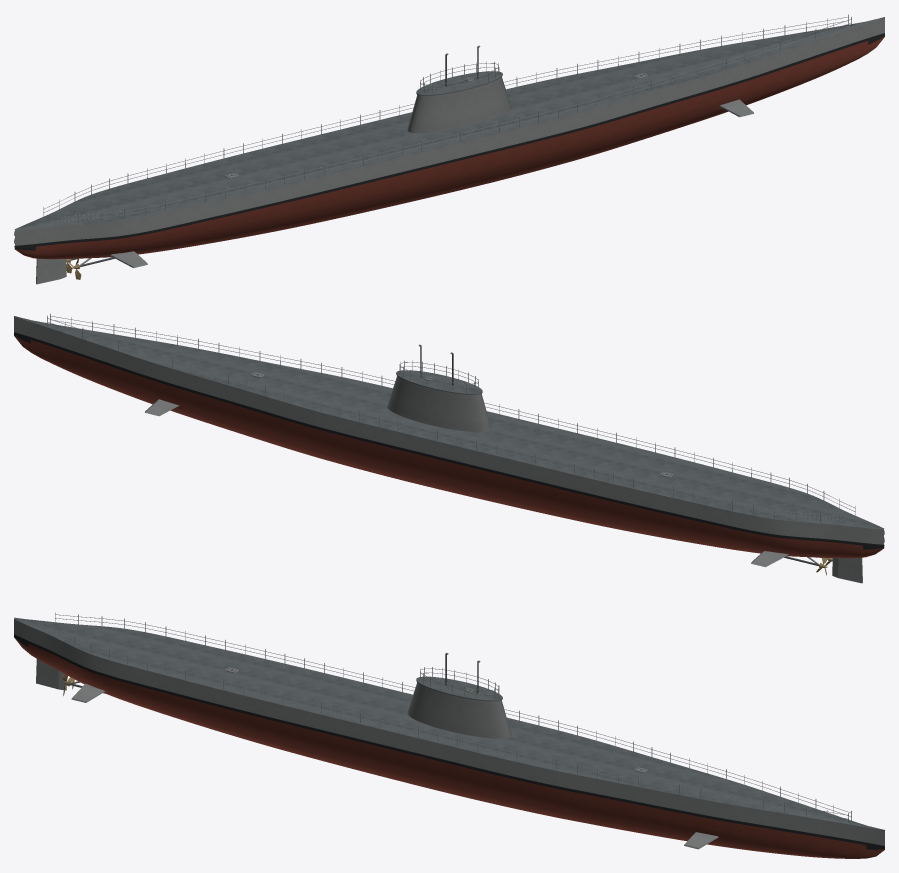
File: i_series_t33.glb
3 views of the same model, one above another, from view 1: azimuth 30°, elevation 25°; view 2: azimuth 150°, elevation 25°; view 3: azimuth 330°, elevation 25° (orthographic).
Parts seen in each view (by area): view 1: I-series; view 2: I-series; view 3: I-series.
Boxes of the visible parts, left/top/right/bottom form: I-series: left=14, top=14, right=884, bottom=284; I-series: left=14, top=313, right=884, bottom=583; I-series: left=14, top=612, right=884, bottom=858.
Bounding box in the file's own units: 89 × 13.1 × 10.99.
Materials: 6 (6 with a texture image).
